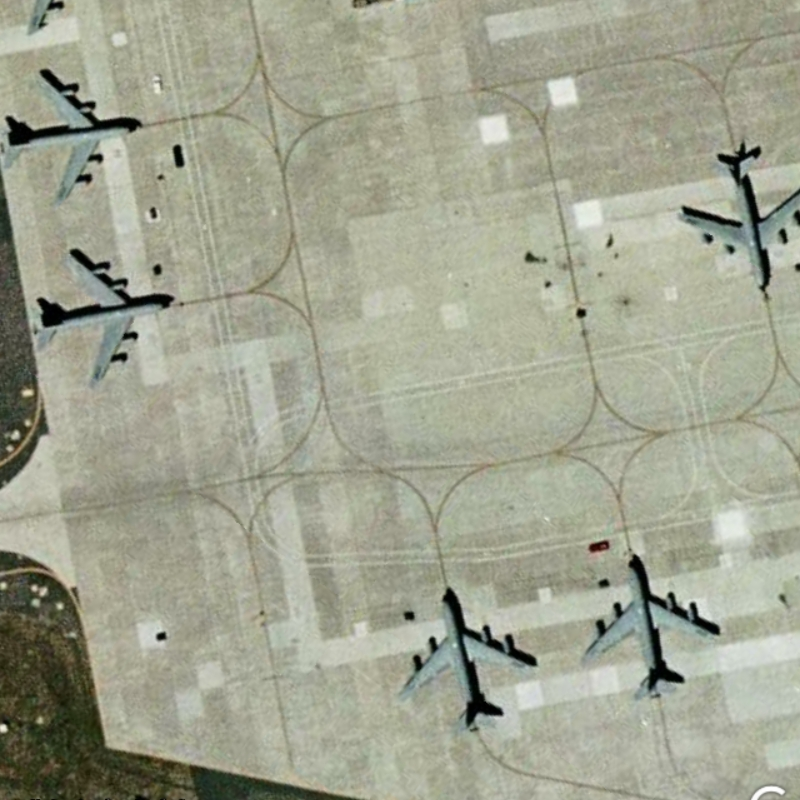A14: (29, 245, 176, 394), (1, 66, 154, 208), (581, 555, 724, 703), (392, 587, 538, 731), (671, 141, 800, 293)
